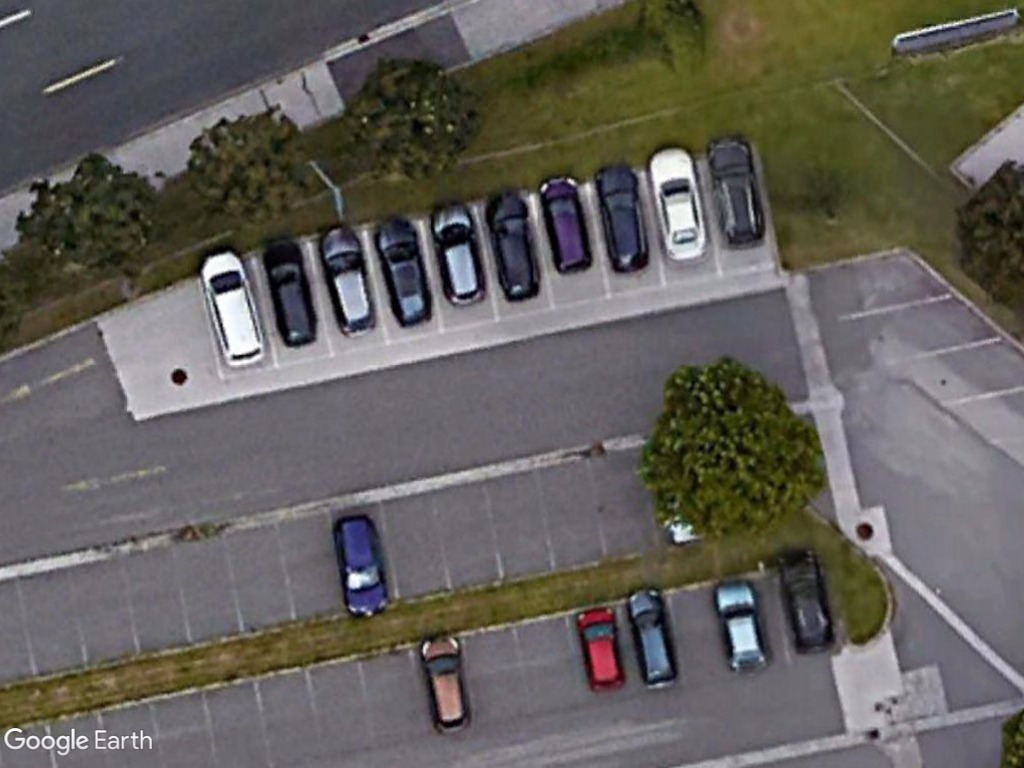car: (198, 244, 268, 371), (645, 142, 712, 263), (703, 134, 768, 253), (256, 236, 322, 351), (372, 214, 437, 328), (772, 547, 838, 657), (329, 510, 392, 622), (485, 187, 544, 304), (619, 583, 680, 696), (320, 223, 379, 337), (594, 161, 653, 272), (429, 196, 487, 307), (419, 633, 476, 739), (536, 171, 592, 276), (711, 575, 768, 672), (571, 604, 627, 696)
